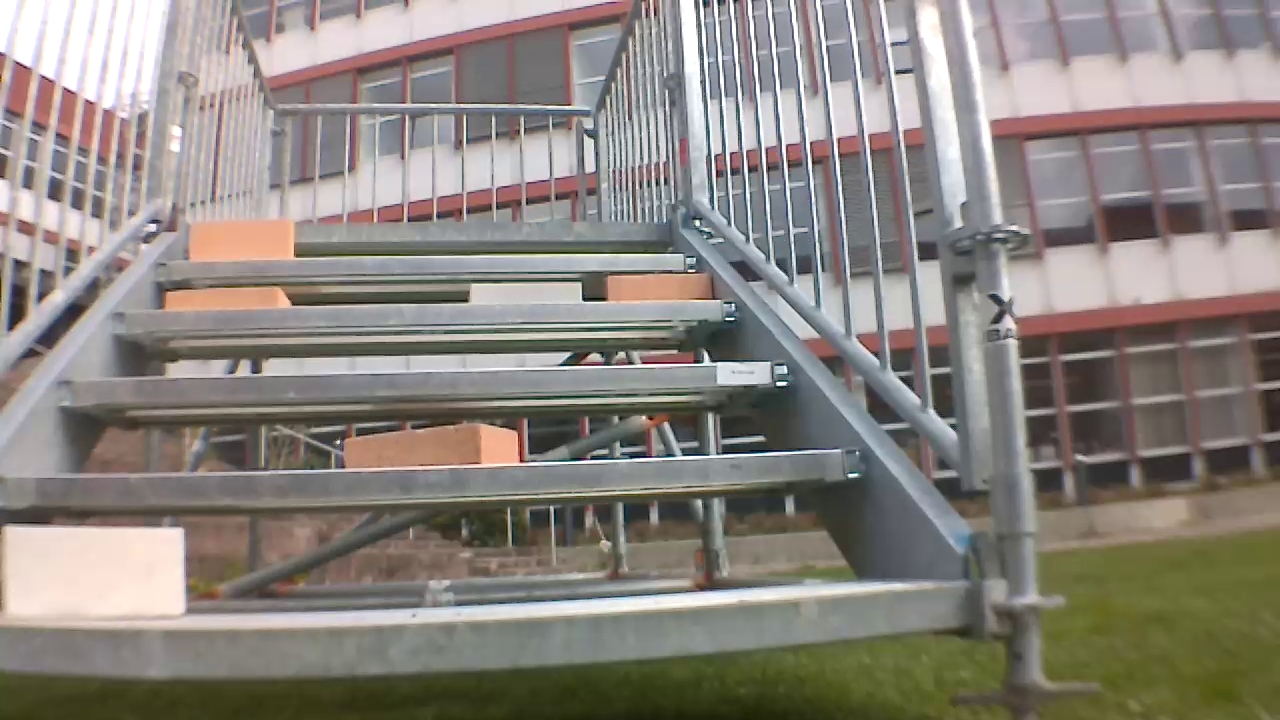brick: (3, 526, 184, 615), (345, 423, 518, 468), (189, 219, 293, 260), (609, 274, 712, 301), (166, 286, 288, 306), (470, 283, 581, 303)
edge: (1, 581, 964, 678), (1, 450, 860, 504), (57, 361, 791, 399), (111, 299, 739, 329), (157, 252, 694, 276), (170, 222, 672, 240)
stairs: (9, 4, 1060, 718)
steps: (5, 214, 971, 687)
